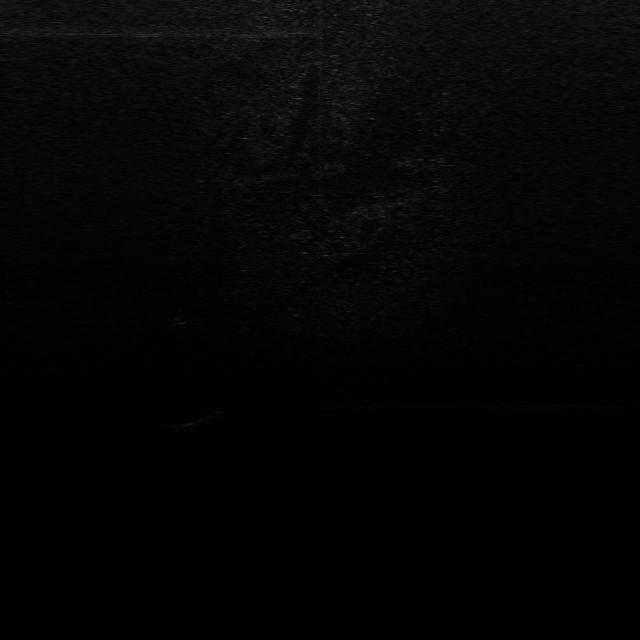ball: (198, 402, 230, 424)
circle cage: (168, 306, 197, 324)
